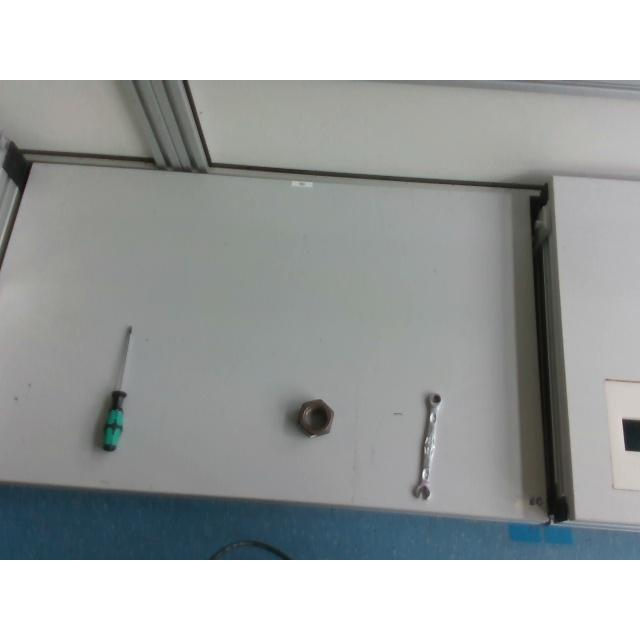M30: (294, 396, 334, 438)
Screwdriver: (100, 324, 134, 452)
Wrench: (413, 393, 442, 501)
